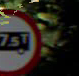Heavy Vehicles: (1, 2, 43, 75)
